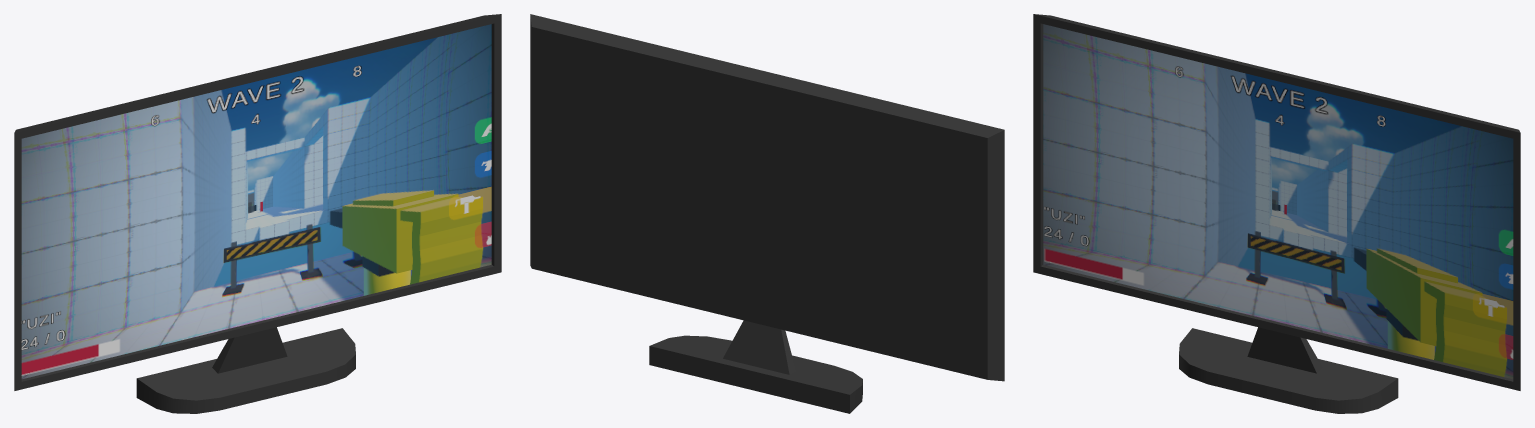
The picture shows the model from 3 angles, left to right: view 1: azimuth 30°, elevation 25°; view 2: azimuth 150°, elevation 25°; view 3: azimuth 330°, elevation 25°; orthographic projection. The views are drawn at different scales.
Visible parts, largest first — view 1: Monitor 3; view 2: Monitor 3; view 3: Monitor 3.
Boxes of the visible parts, x1,y1,x2,y2 form: Monitor 3: (14,14,501,413); Monitor 3: (530,14,1004,413); Monitor 3: (1033,14,1520,413).
Bounding box in the file's own units: 1.05 × 0.6433 × 0.1255.
Materials: 2 (2 with a texture image).
